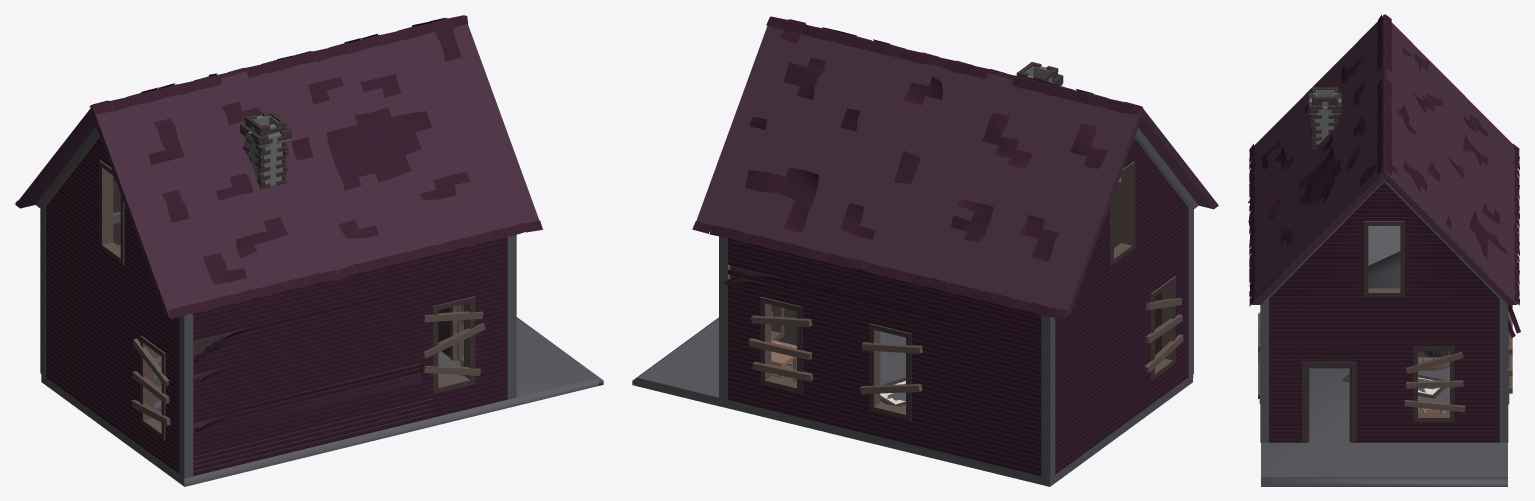
The model's file is Lanas_House_Upd 1.fbx.
3 renders of one model, left to right at view 1: azimuth 30°, elevation 25°; view 2: azimuth 150°, elevation 25°; view 3: azimuth 270°, elevation 25°, orthographic. The views are drawn at different scales.
Parts seen in each view (by area): view 1: HouseMain, Roof, Misc, ChimneyBricks; view 2: HouseMain, Roof, Misc; view 3: HouseMain, Roof, Misc, ChimneyBricks, Fireplace.
Part boxes in pixels (x1,y1,x2,y2): HouseMain: [15, 24, 603, 486]; Roof: [14, 15, 542, 319]; Misc: [99, 160, 485, 440]; ChimneyBricks: [240, 111, 291, 189]; HouseMain: [632, 25, 1218, 486]; Roof: [692, 16, 1142, 318]; Misc: [748, 161, 1183, 420]; HouseMain: [1248, 21, 1520, 486]; Roof: [1248, 14, 1519, 306]; Misc: [1258, 221, 1512, 442]; ChimneyBricks: [1308, 87, 1341, 150]; Fireplace: [1418, 351, 1449, 370].
Bounding box in the file's own units: 1063 × 774 × 663.
